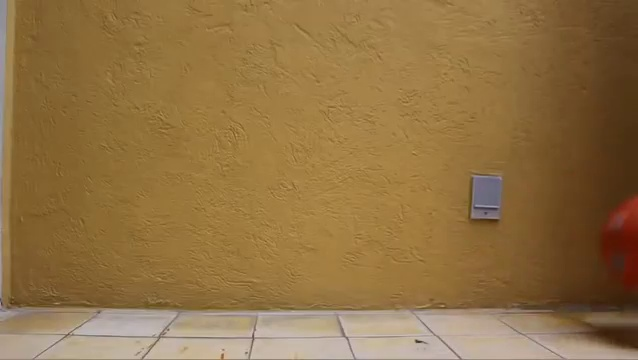ball: (597, 194, 634, 301)
